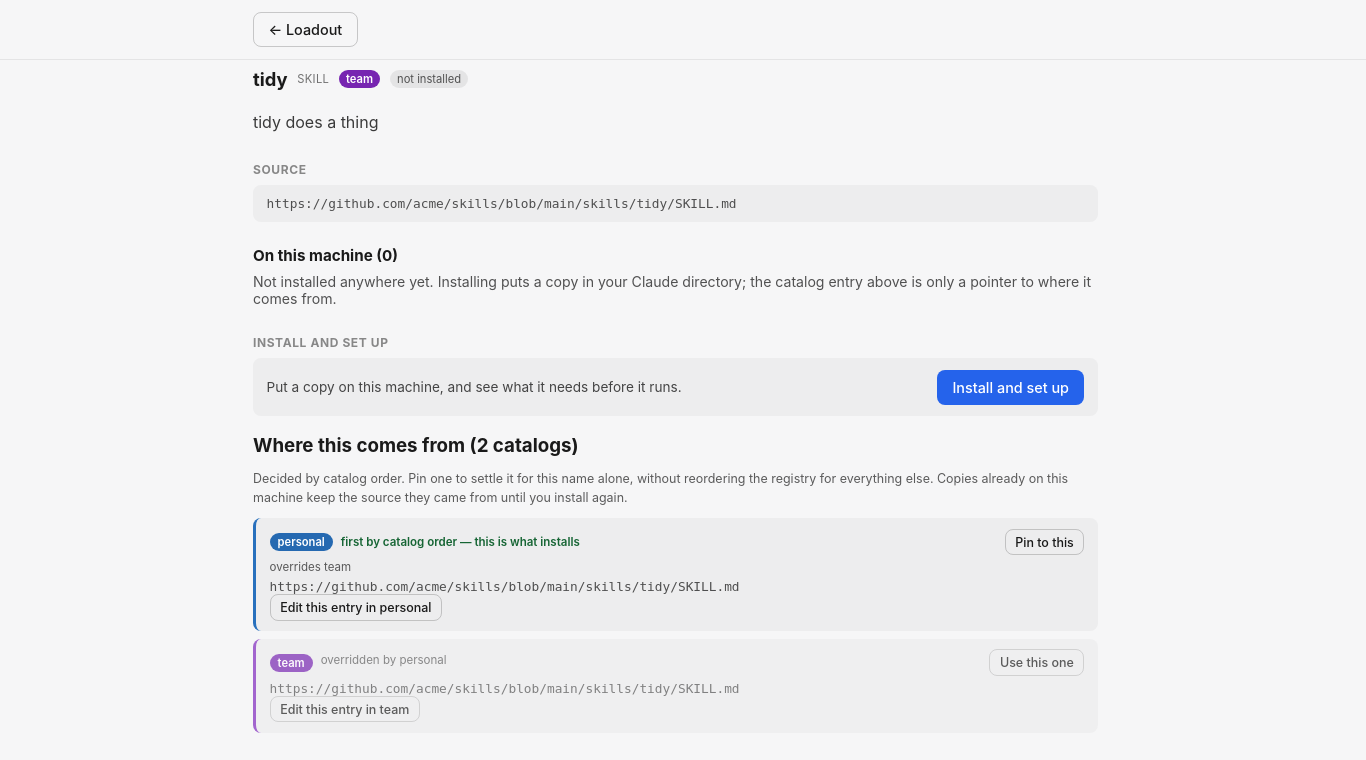
Test case: UI-30: pinning › doesn't offer the switch when something needs a decision, and lists why
Click the button "Use this one" at (1037, 663), box x1=989 y1=649 x2=1084 y2=676
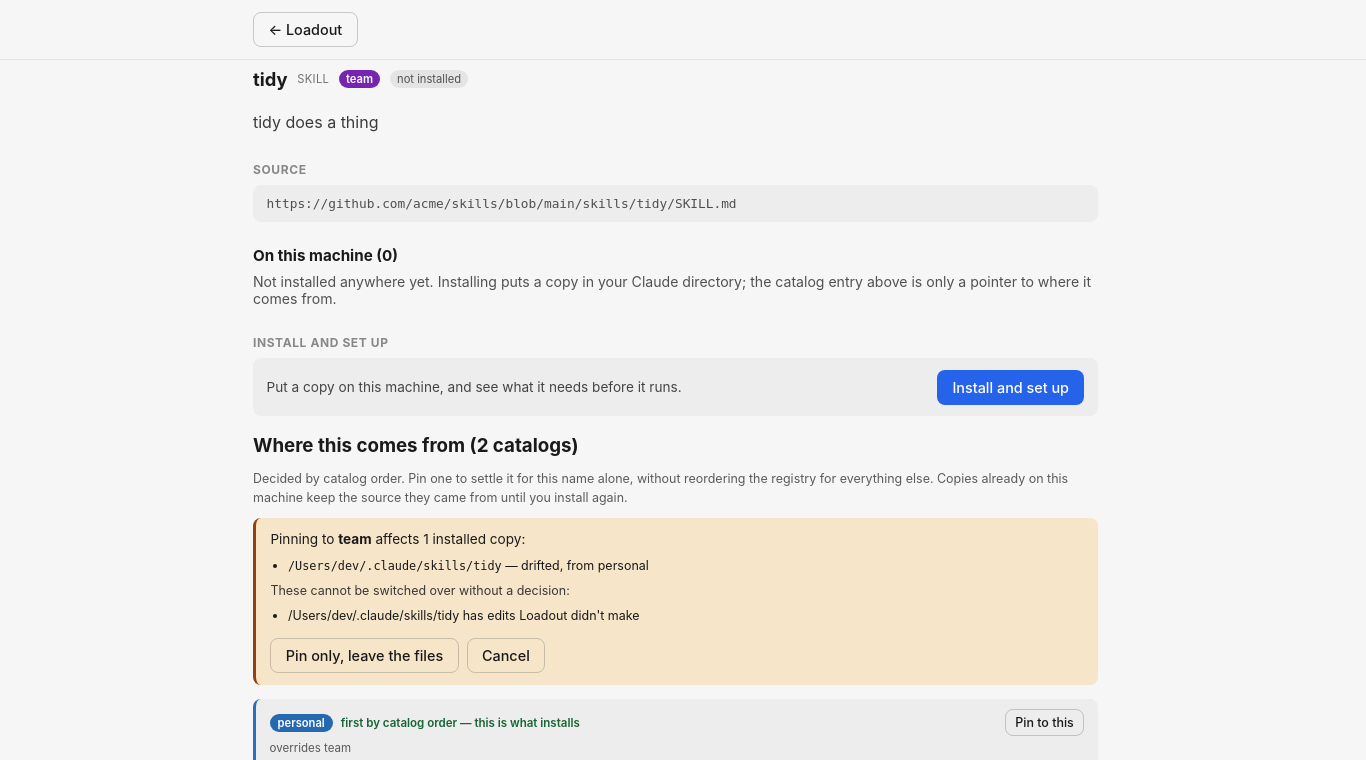
Now the element with class "entry-detail__propose" shows "has edits Loadout didn't make", box x1=288 y1=608 x2=640 y2=623
